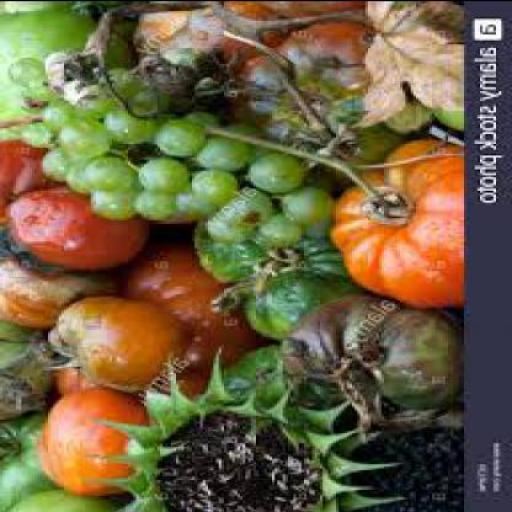biodegradable: (0, 1, 464, 511), (80, 340, 398, 510), (194, 1, 398, 209), (224, 15, 402, 178), (277, 291, 459, 428), (118, 236, 256, 399), (328, 134, 458, 304), (40, 0, 227, 106), (0, 1, 129, 123), (213, 228, 349, 337), (334, 392, 459, 510), (40, 294, 184, 387), (0, 183, 150, 271), (360, 1, 462, 127), (127, 1, 278, 86), (34, 383, 144, 495), (200, 340, 330, 408), (0, 249, 114, 326), (218, 2, 365, 60), (0, 314, 57, 416), (0, 407, 54, 511), (0, 128, 54, 214), (0, 484, 121, 510), (245, 148, 299, 192), (274, 179, 328, 221), (58, 114, 109, 158), (128, 154, 187, 192), (192, 131, 249, 168), (150, 115, 200, 157), (218, 186, 272, 223), (114, 74, 160, 116), (74, 154, 128, 189), (102, 103, 147, 143), (349, 121, 394, 158), (186, 162, 232, 197), (200, 207, 250, 239), (387, 92, 427, 131), (82, 185, 130, 217), (256, 209, 298, 244), (216, 121, 262, 151), (41, 145, 80, 180), (128, 185, 170, 217), (171, 190, 211, 219), (73, 90, 112, 119), (6, 53, 40, 86), (38, 96, 70, 130), (430, 106, 462, 130), (13, 88, 35, 115), (176, 108, 210, 125), (62, 160, 80, 188)
